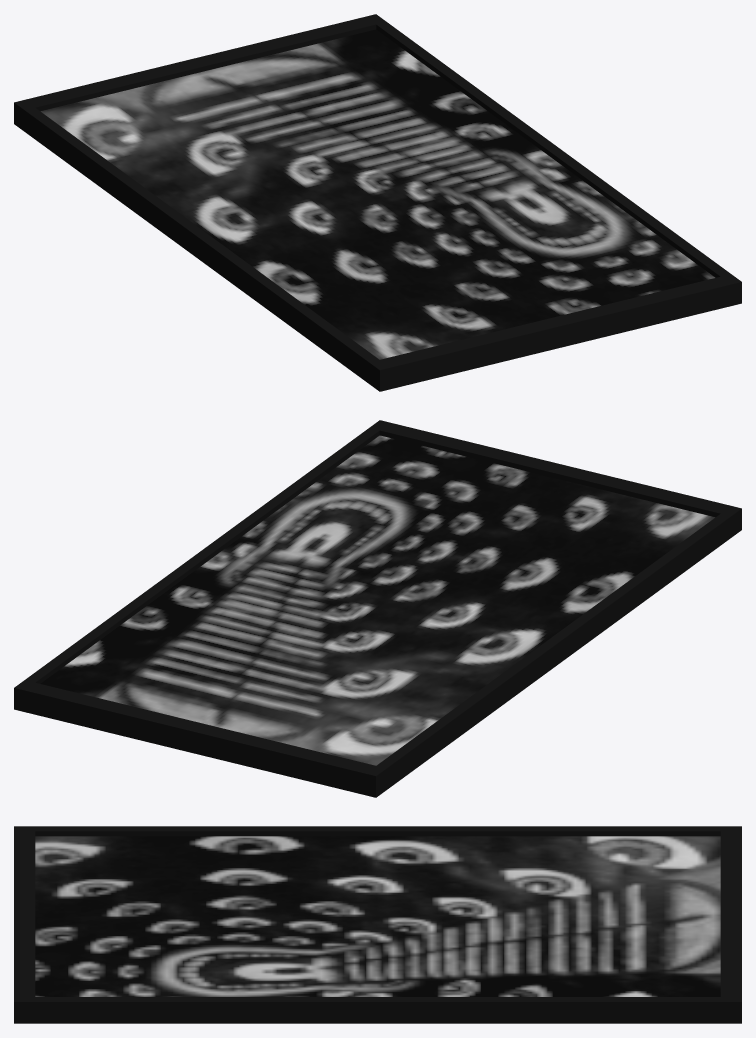
The model's file is KorkuTablo3.fbx.
3 views of the same model, one above another, from view 1: azimuth 30°, elevation 25°; view 2: azimuth 150°, elevation 25°; view 3: azimuth 270°, elevation 25° (orthographic).
Visible parts, largest first — view 1: Cube.007; view 2: Cube.007; view 3: Cube.007.
Part boxes in pixels (x1,y1,x2,y2): Cube.007: (14,14,741,391); Cube.007: (14,420,741,797); Cube.007: (14,826,741,1023).
Bounding box in the file's own units: 40 × 2.28 × 70.
2 materials, 1 textured.
